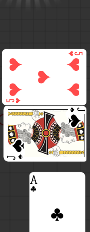4H: (67, 51, 83, 58)
5C: (68, 106, 84, 114)
AC: (29, 174, 38, 194)
